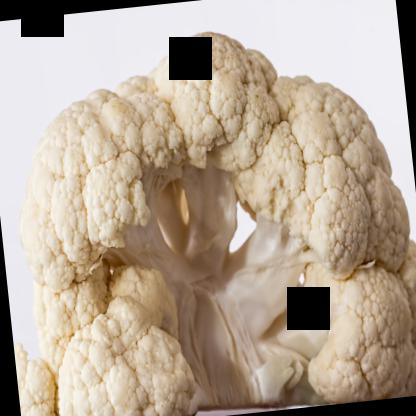broccoli: (0, 6, 415, 415)
